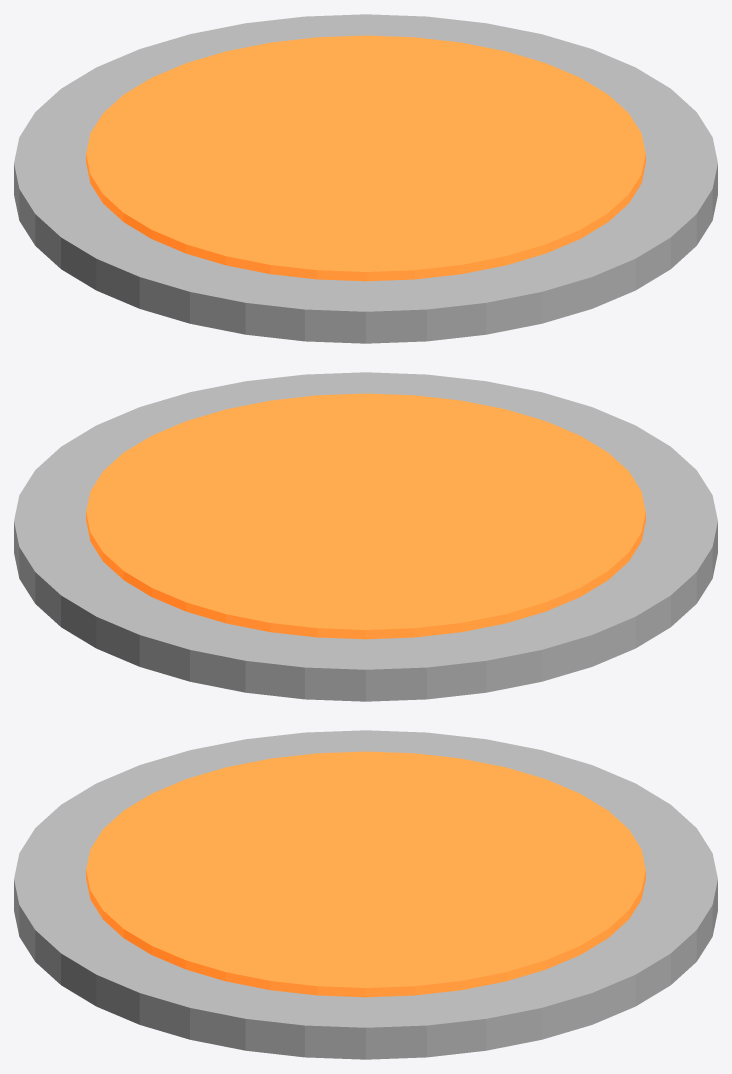
File: Teleportation portal inactif.fbx
3 renders of one model, top to bottom at view 1: azimuth 30°, elevation 25°; view 2: azimuth 150°, elevation 25°; view 3: azimuth 270°, elevation 25°, orthographic.
Parts seen in each view (by area): view 1: Tube, Tube_1; view 2: Tube, Tube_1; view 3: Tube, Tube_1.
Part boxes in pixels (left/top/right/bottom): Tube: left=86, top=35, right=645, bottom=281; Tube_1: left=14, top=14, right=717, bottom=343; Tube: left=86, top=393, right=645, bottom=639; Tube_1: left=14, top=372, right=717, bottom=701; Tube: left=86, top=751, right=645, bottom=997; Tube_1: left=14, top=730, right=717, bottom=1059.
Bounding box in the file's own units: 200 × 12.9 × 200.
